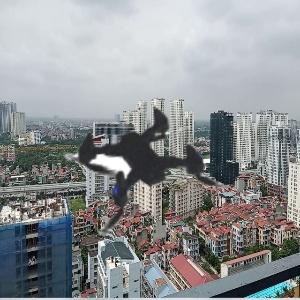drone: (3, 11, 285, 293)
